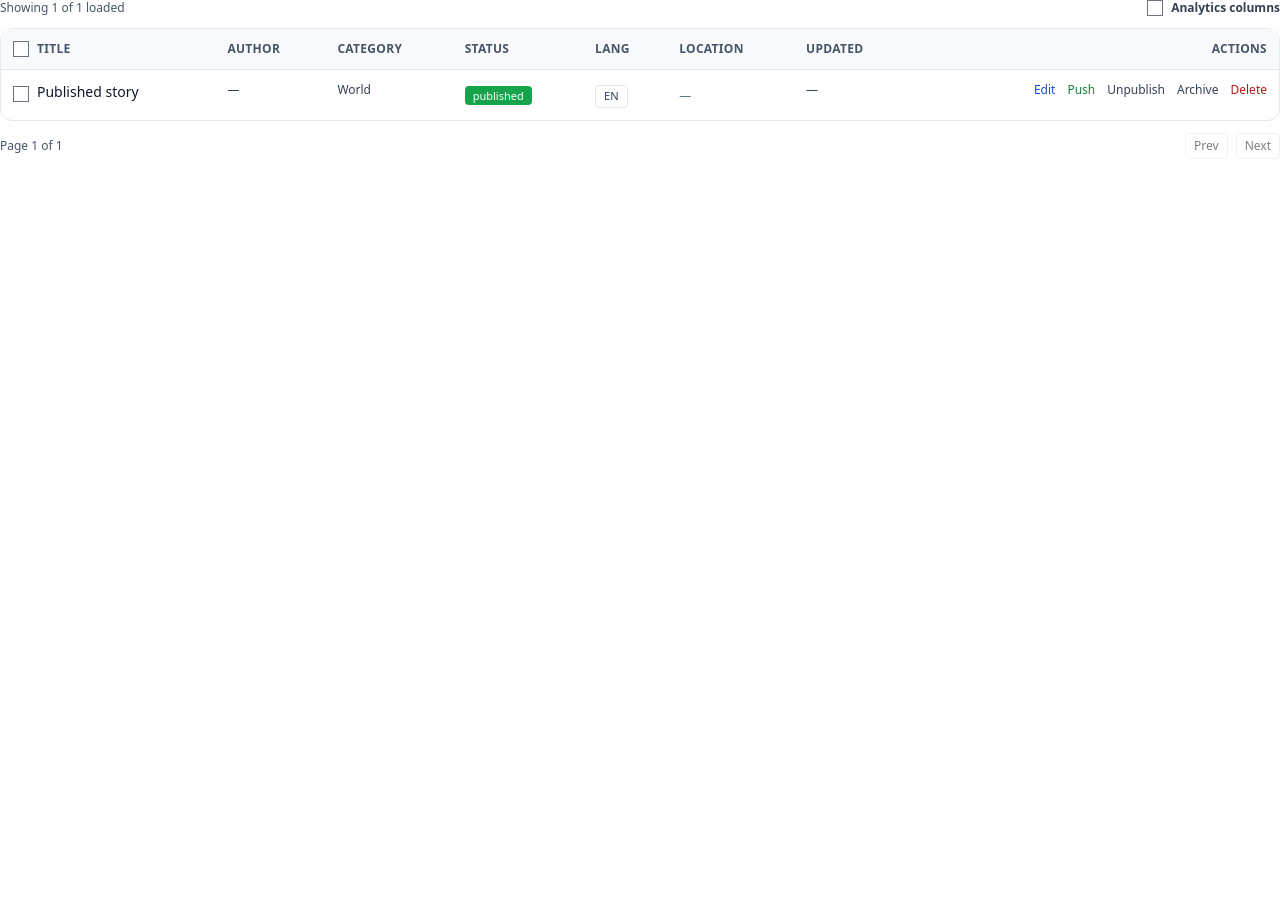
Scenario: NewsTable article push modal › shows the anti-spam warning in the article push confirmation modal
Click the button "Push".
click(1081, 90)  # box [1067, 82, 1095, 98]
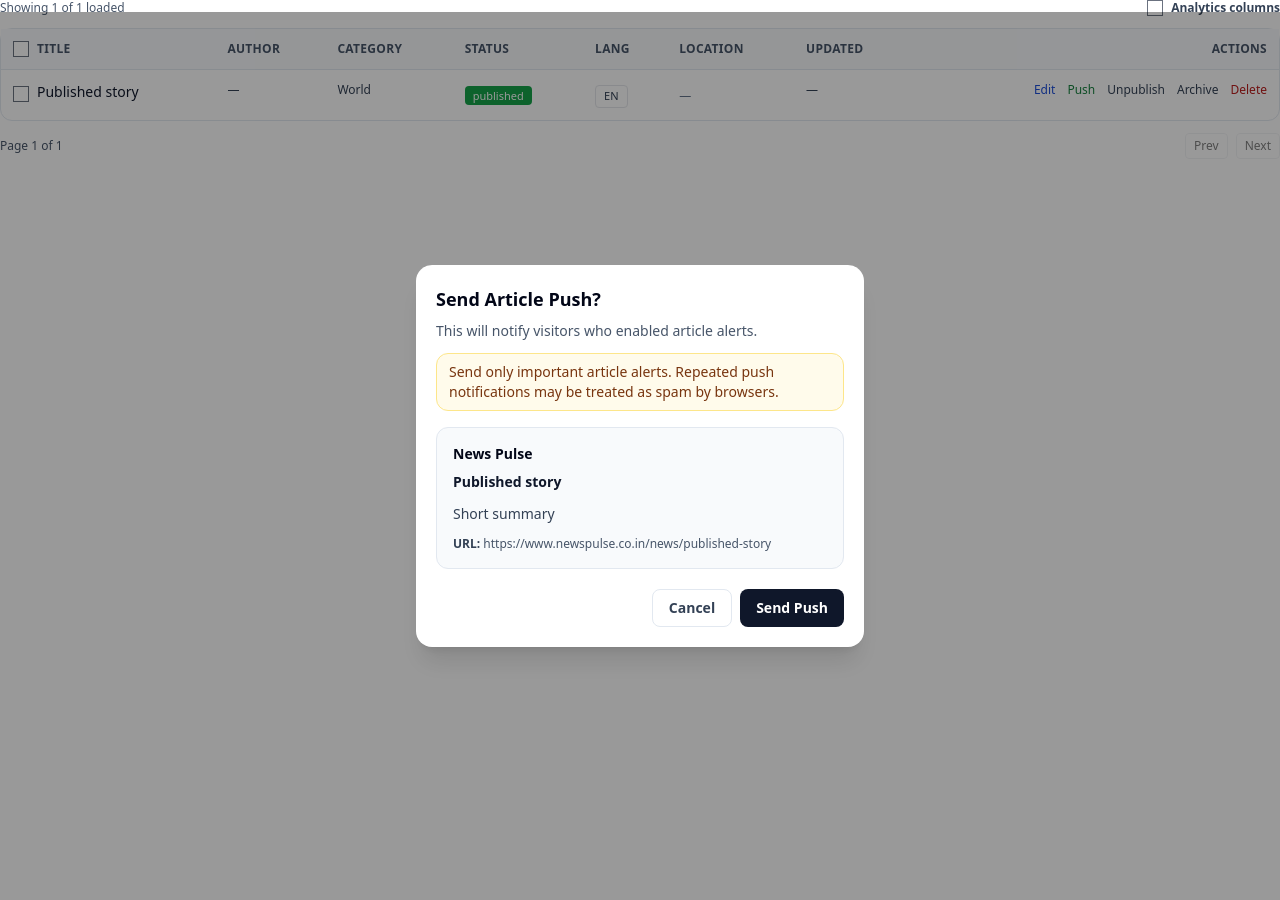
Check: the text "Send Article Push?" is shown, box [436, 287, 601, 311]
Check: the text "Send only important article alerts. Repeated push notifications may be treated as spam by browsers." is shown, box [449, 362, 779, 401]
